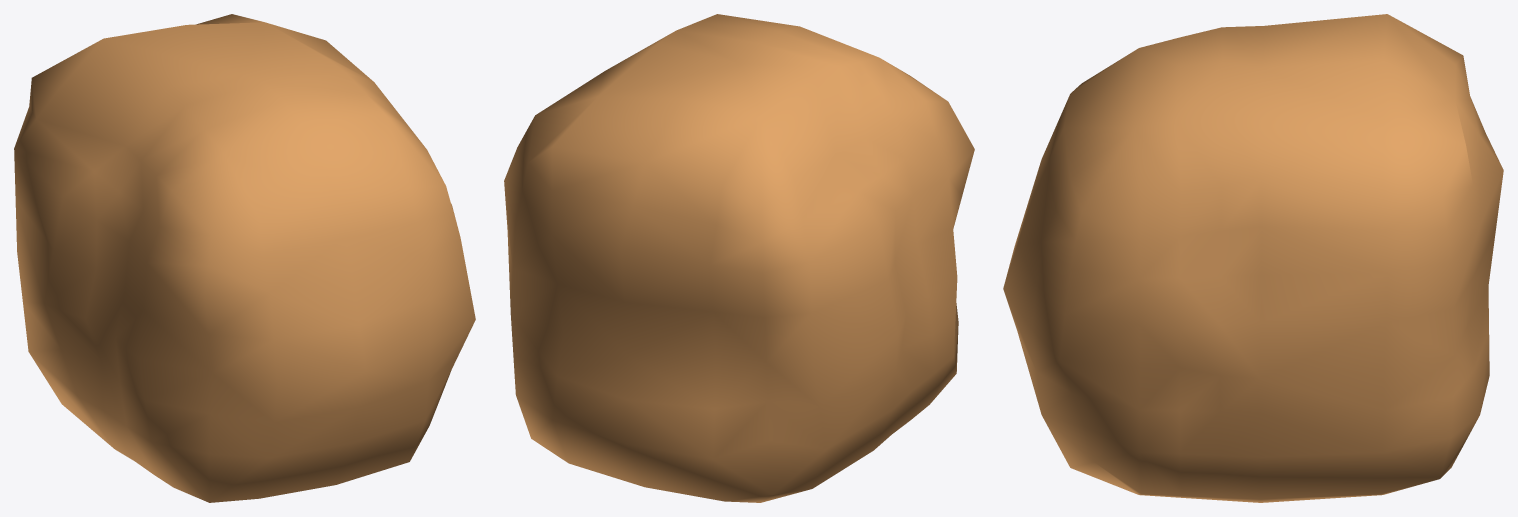
The model's file is RockyWall05.fbx.
3 renders of one model, left to right at view 1: azimuth 30°, elevation 25°; view 2: azimuth 150°, elevation 25°; view 3: azimuth 270°, elevation 25°, orthographic. The views are drawn at different scales.
Visible parts, largest first — view 1: Wall; view 2: Wall; view 3: Wall.
Boxes of the visible parts, box(x1,y1,x2,y2) form: Wall: box(14, 14, 475, 502); Wall: box(504, 14, 974, 502); Wall: box(1003, 14, 1503, 502).
Bounding box in the file's own units: 1733 × 1812 × 2017.
